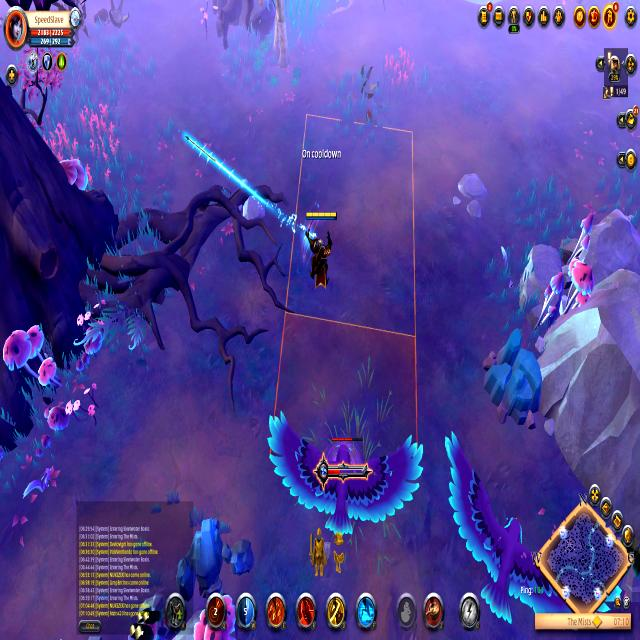ore: (441, 422, 564, 626), (257, 410, 428, 546)
red: (302, 206, 338, 294)
silver: (263, 105, 425, 488)
tree: (484, 324, 546, 434)
